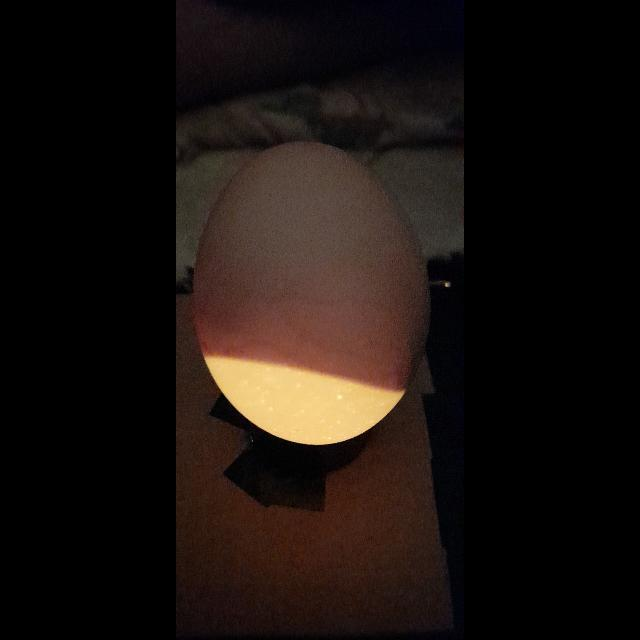Fertile: (192, 136, 432, 454)
